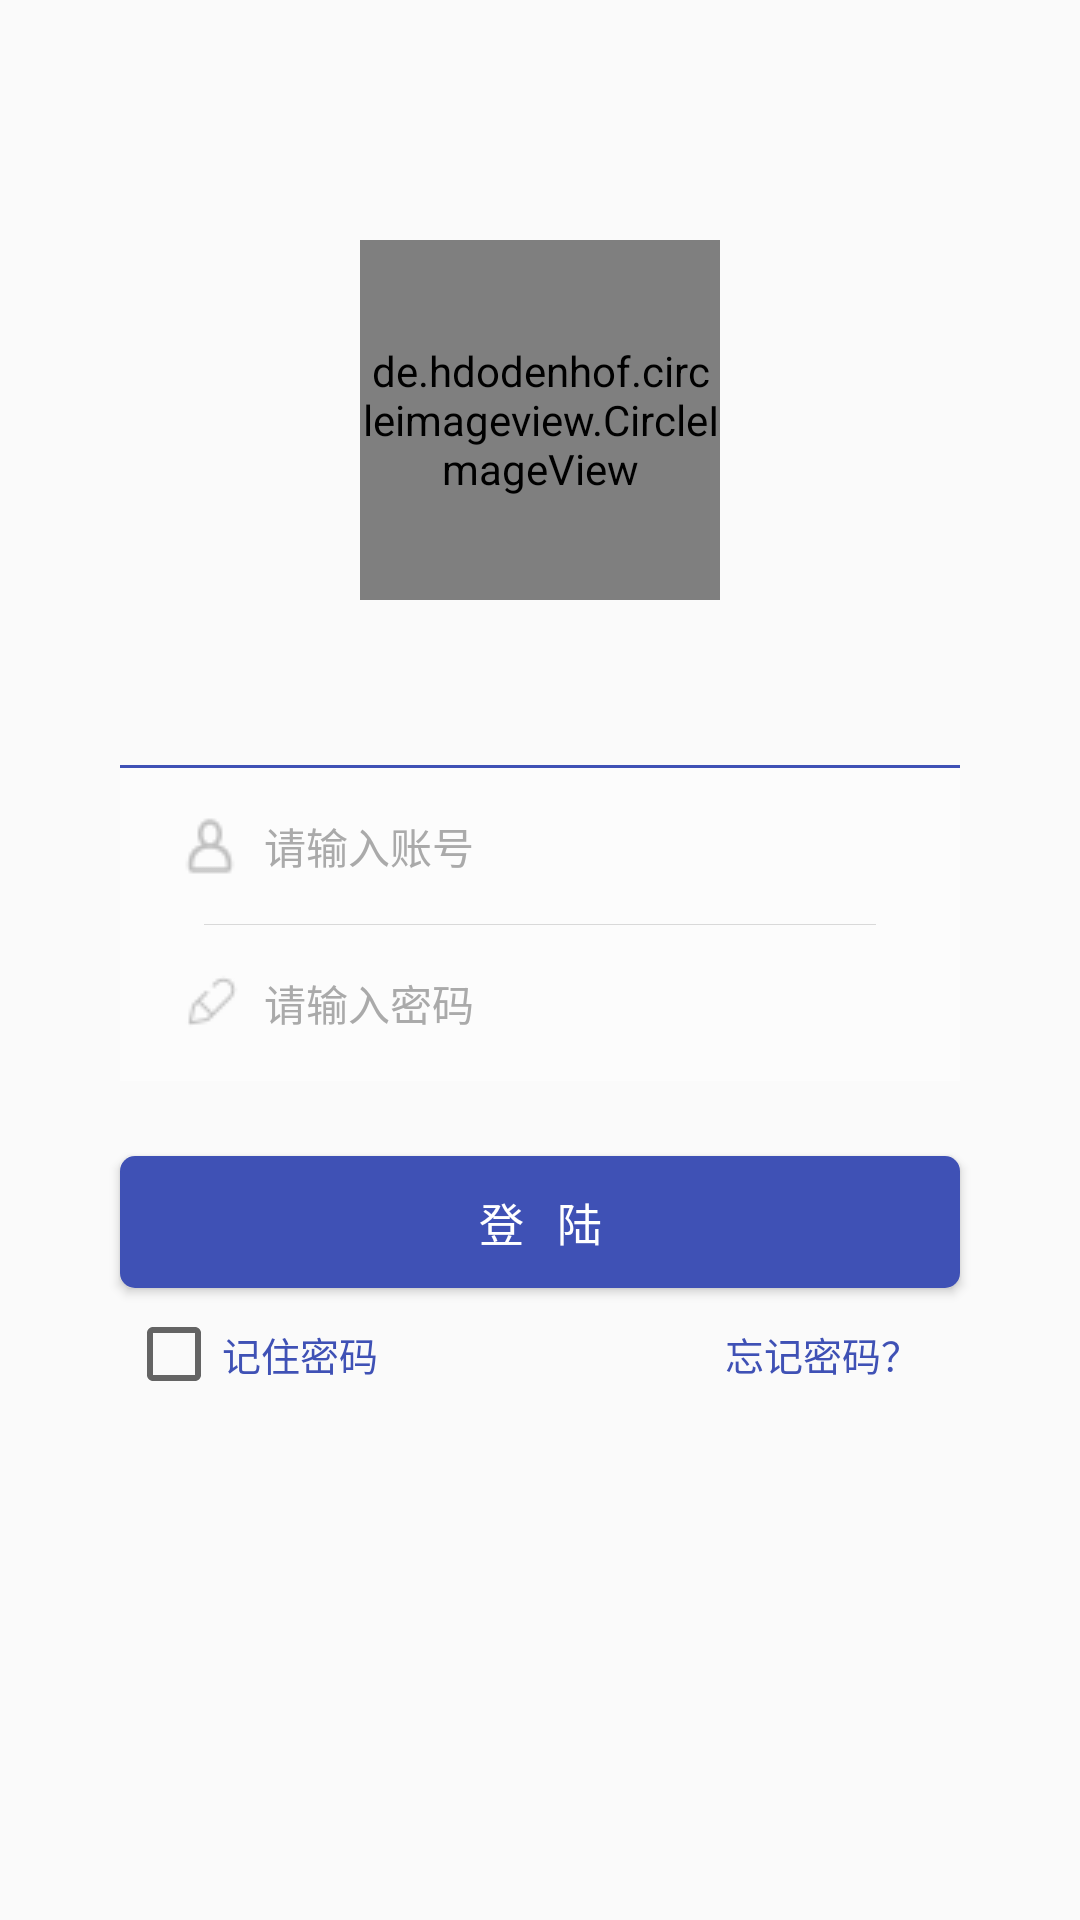

Named icons in this screenshot (1080×1920) and their centers, point (x, y):
write: point (211, 1001)
